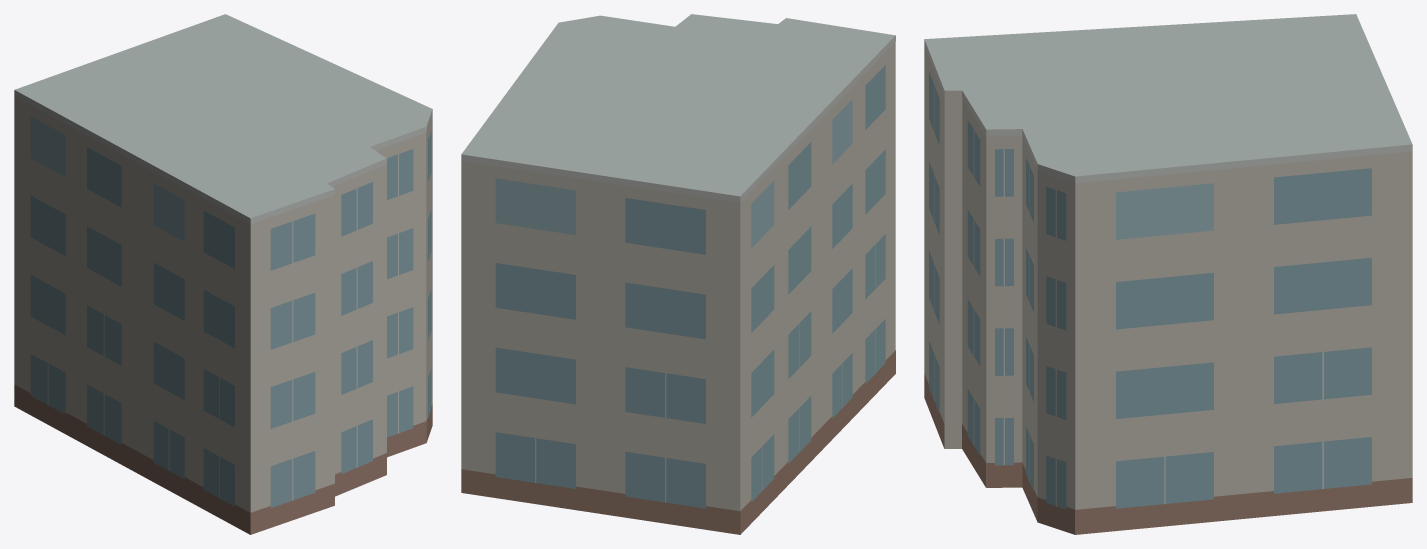
The model's file is survey-upis-32681792.glb.
3 renders of one model, left to right at view 1: azimuth 30°, elevation 25°; view 2: azimuth 150°, elevation 25°; view 3: azimuth 270°, elevation 25°, orthographic. The views are drawn at different scales.
Parts seen in each view (by area): view 1: survey-upis-32681792.tmp; view 2: survey-upis-32681792.tmp; view 3: survey-upis-32681792.tmp.
Boxes of the visible parts, box(x1,y1,x2,y2) form: survey-upis-32681792.tmp: box(14, 14, 432, 534); survey-upis-32681792.tmp: box(461, 14, 895, 534); survey-upis-32681792.tmp: box(924, 14, 1412, 534).
Bounding box in the file's own units: 12.45 × 12.8 × 15.82.
